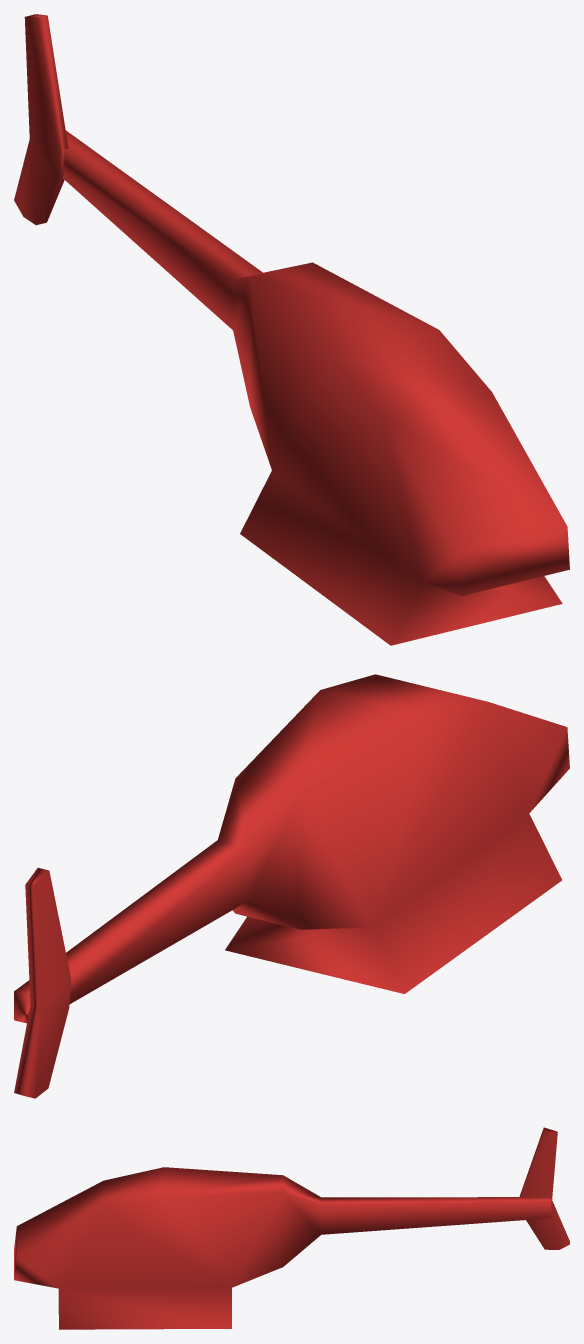
Rendered from helicopter_bell_colmesh.fbx.
The picture shows the model from 3 angles, top to bottom: view 1: azimuth 30°, elevation 25°; view 2: azimuth 150°, elevation 25°; view 3: azimuth 270°, elevation 25°; orthographic projection. The views are drawn at different scales.
Visible parts, largest first — view 1: body_main; view 2: body_main; view 3: body_main.
Part boxes in pixels (x1,y1,x2,y2): body_main: (14, 14, 569, 645); body_main: (14, 674, 569, 1098); body_main: (14, 1127, 569, 1329).
Size of the model in its own units: 187 by 314 by 912.
